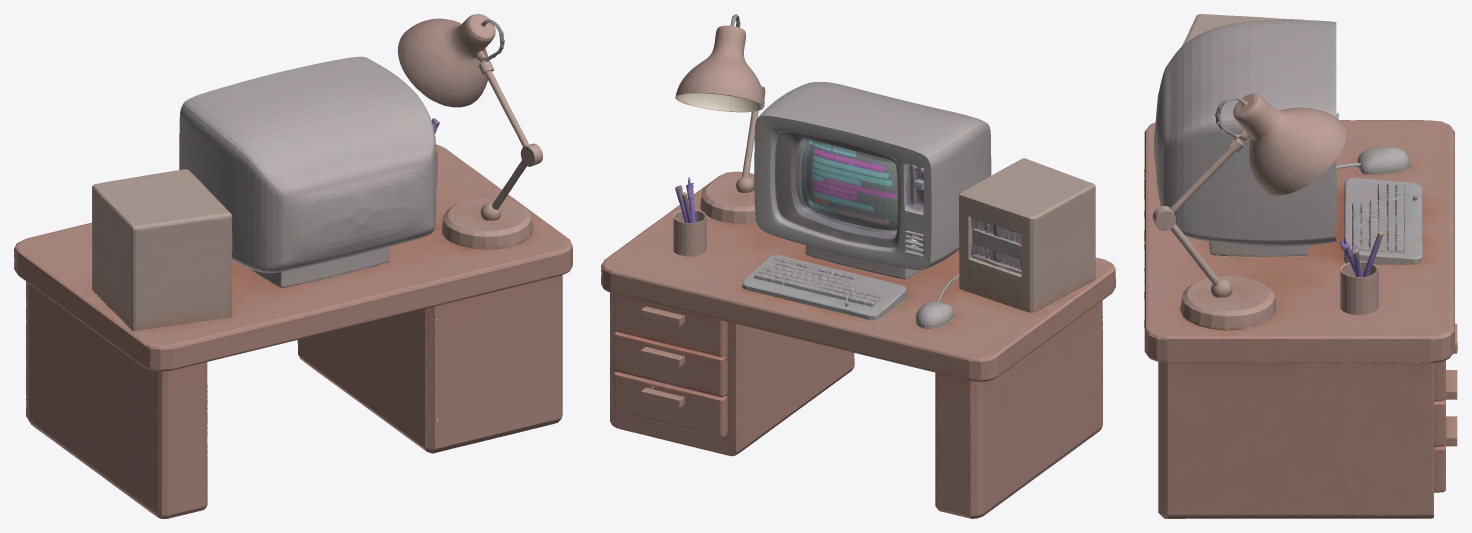
Rendered from desk_opt.glb.
3 views of the same model, side by side, from view 1: azimuth 30°, elevation 25°; view 2: azimuth 150°, elevation 25°; view 3: azimuth 270°, elevation 25° (orthographic). The views are drawn at different scales.
Visible parts, largest first — view 1: tripo_node_f55e693a-2f54-45de-8fd7-81ce9a4de621; view 2: tripo_node_f55e693a-2f54-45de-8fd7-81ce9a4de621; view 3: tripo_node_f55e693a-2f54-45de-8fd7-81ce9a4de621.
Part boxes in pixels (left/top/right/bottom): tripo_node_f55e693a-2f54-45de-8fd7-81ce9a4de621: left=14, top=14, right=572, bottom=518; tripo_node_f55e693a-2f54-45de-8fd7-81ce9a4de621: left=601, top=14, right=1115, bottom=518; tripo_node_f55e693a-2f54-45de-8fd7-81ce9a4de621: left=1144, top=14, right=1457, bottom=518.
Bounding box in the file's own units: 1 × 0.8653 × 0.6056.
Materials: 1 (1 with a texture image).
